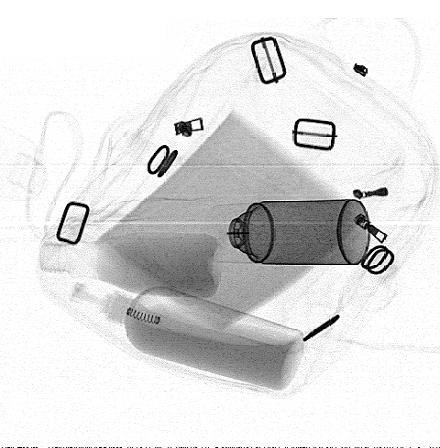Sprayer: (204, 199, 372, 265)
